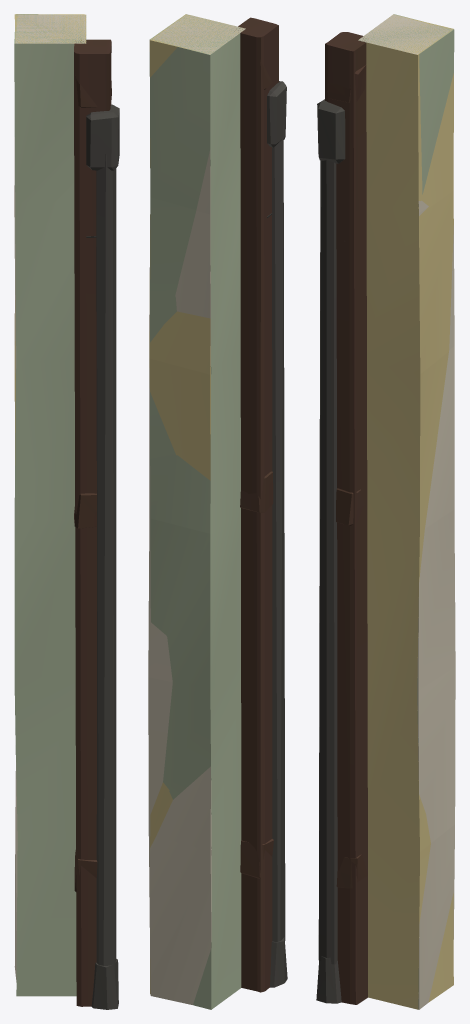
The model's file is corner.inner.glb.
The picture shows the model from 3 angles, left to right: view 1: azimuth 90°, elevation 25°; view 2: azimuth 150°, elevation 25°; view 3: azimuth 330°, elevation 25°; orthographic projection.
Parts seen in each view (by area): view 1: corner.inner.v2.mesh, corner.inner.v0.mesh, corner.inner.v1.mesh; view 2: corner.inner.v2.mesh, corner.inner.v0.mesh, corner.inner.v1.mesh; view 3: corner.inner.v1.mesh, corner.inner.v0.mesh, corner.inner.v2.mesh.
Boxes of the visible parts, box(x1,y1,x2,y2) form: corner.inner.v2.mesh: box(14, 14, 111, 1006); corner.inner.v0.mesh: box(14, 14, 119, 1009); corner.inner.v1.mesh: box(14, 14, 86, 464); corner.inner.v2.mesh: box(149, 14, 278, 1009); corner.inner.v0.mesh: box(148, 14, 287, 1004); corner.inner.v1.mesh: box(149, 14, 243, 994); corner.inner.v1.mesh: box(359, 15, 453, 1009); corner.inner.v0.mesh: box(316, 14, 455, 1009); corner.inner.v2.mesh: box(325, 14, 454, 1009).
Size of the model in its own units: 0.2992 by 3 by 0.301.
